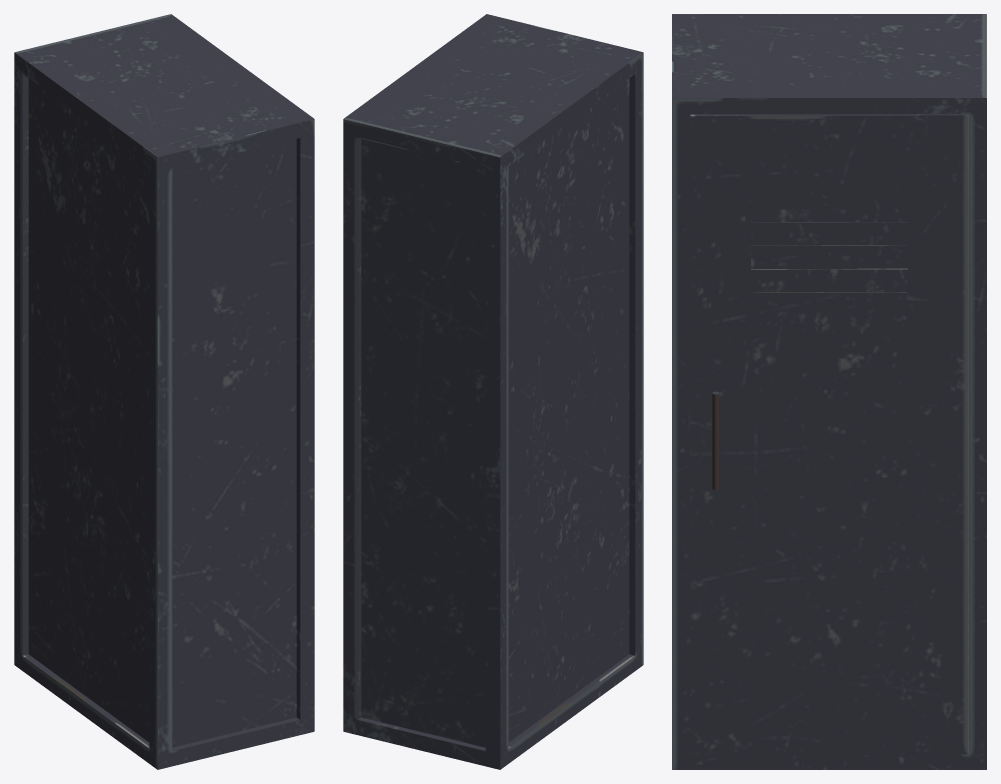
File: locker_rough_texture.glb
3 renders of one model, left to right at view 1: azimuth 30°, elevation 25°; view 2: azimuth 150°, elevation 25°; view 3: azimuth 270°, elevation 25°, orthographic. The views are drawn at different scales.
Parts seen in each view (by area): view 1: Cube; view 2: Cube; view 3: Cube.001, Cube.
Boxes of the visible parts, x1=… form: Cube: x1=14, y1=14, x2=314, y2=769; Cube: x1=343, y1=14, x2=643, y2=769; Cube.001: x1=690, y1=114, x2=968, y2=754; Cube: x1=672, y1=14, x2=986, y2=769.
Size of the model in its own units: 2.2 by 7.45 by 3.17.
1 material, 1 textured.
